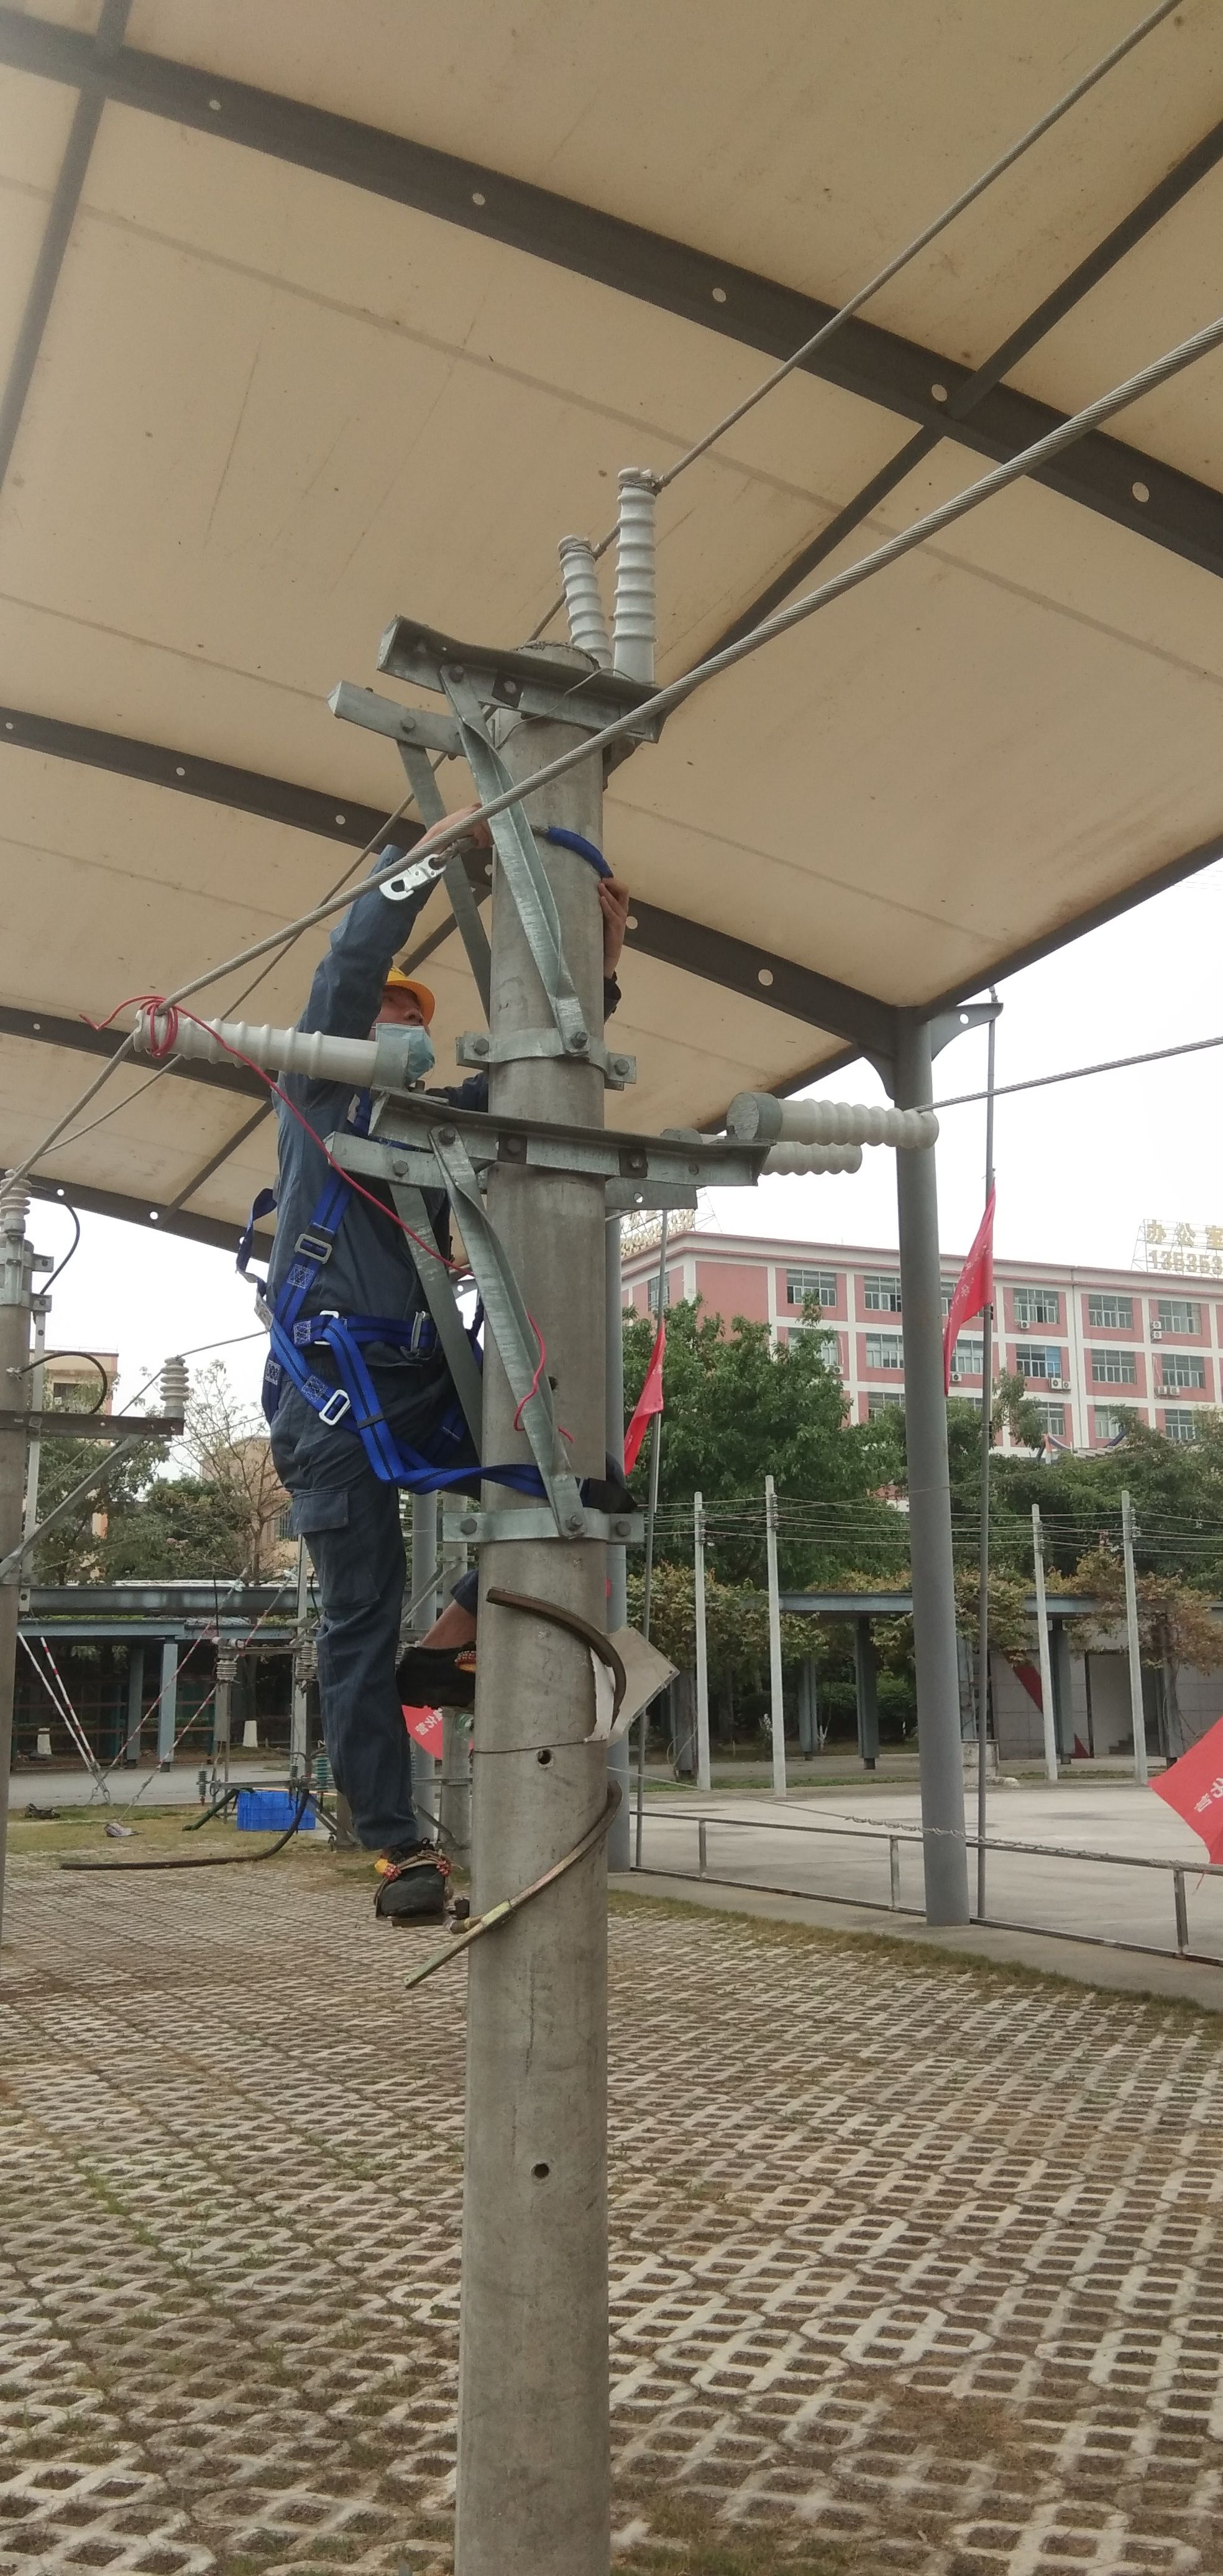downsuit: (259, 1367, 494, 1848)
upsuit: (264, 1078, 455, 1334)
